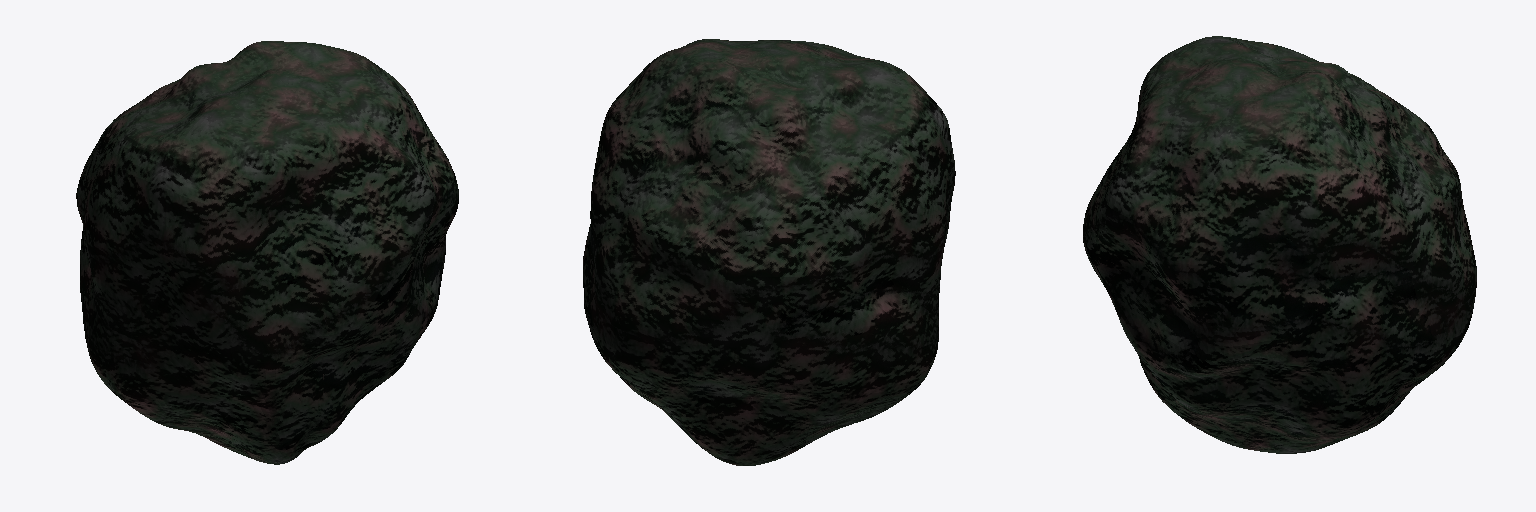
The picture shows the model from 3 angles: view 1: azimuth 30°, elevation 25°; view 2: azimuth 150°, elevation 25°; view 3: azimuth 270°, elevation 25°; orthographic projection.
Visible parts, largest first — view 1: Asteroid4; view 2: Asteroid4; view 3: Asteroid4.
Part boxes in pixels (x1,y1,x2,y2): Asteroid4: (76,41,458,464); Asteroid4: (583,39,955,465); Asteroid4: (1083,36,1476,453).
Size of the model in its own units: 2.78 by 3.12 by 2.88.
1 materials, 1 textured.